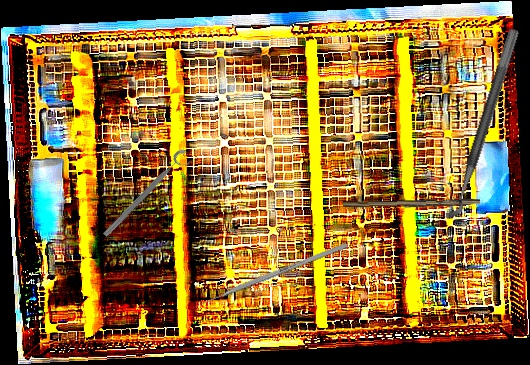Fixation Ring: (431, 22, 522, 223), (100, 146, 195, 245)
Pusher: (190, 241, 349, 311)
Scalpel Handle: (342, 196, 481, 212)
